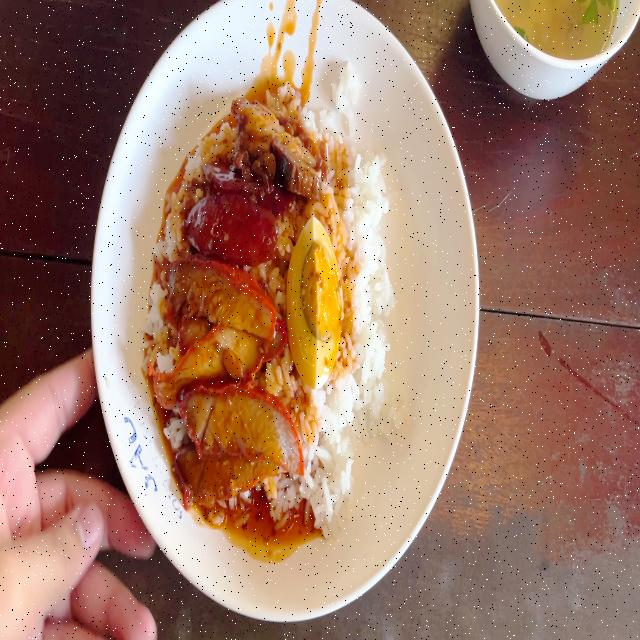boiled_egg: (290, 226, 338, 376)
chainese_sausage: (186, 167, 282, 261)
crispy_pork: (216, 108, 303, 176)
red_pork: (165, 267, 279, 499), (255, 395, 302, 485)
red_pork_and_crispy_pork: (161, 98, 383, 482)
rice: (346, 205, 386, 379), (322, 118, 388, 210), (323, 396, 365, 512)
